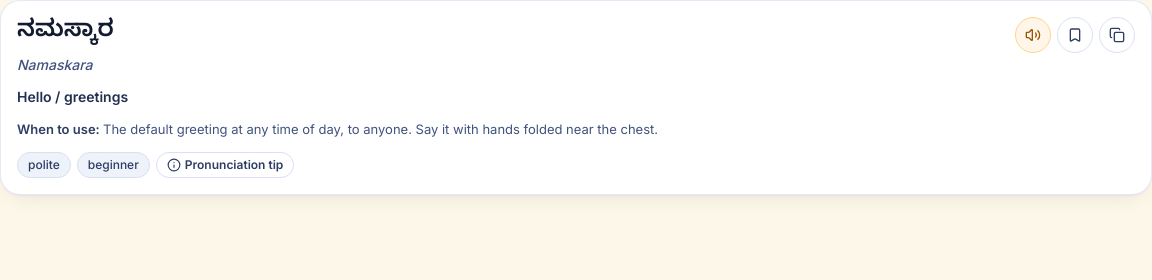
<PhraseCard /> › reveals the pronunciation tip only on demand
This screenshot has width=1152, height=280.
Check: the text "Four beats: Na-ma-s-KA-ra. Tap the final \"ra\" lightly, do not roll it hard." is not shown
Click the button "Pronunciation tip" at (225, 165), box [156,152,294,178]
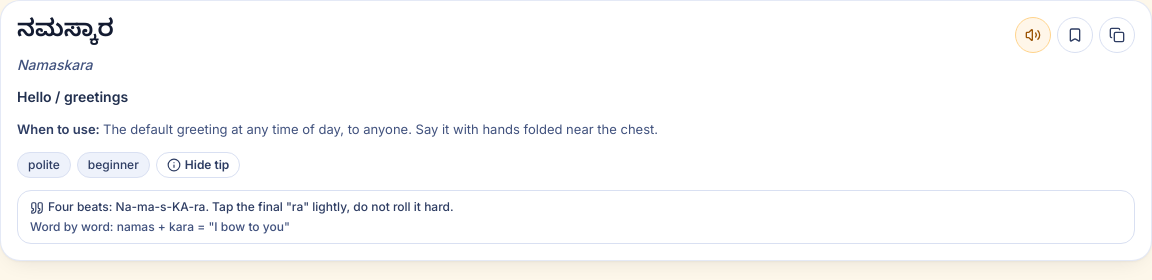
Check: the button named "pronunciation tip" is expanded, box [156,152,240,178]
Check: the text "Four beats: Na-ma-s-KA-ra. Tap the final \"ra\" lightly, do not roll it hard." is shown, box [48,199,454,214]
